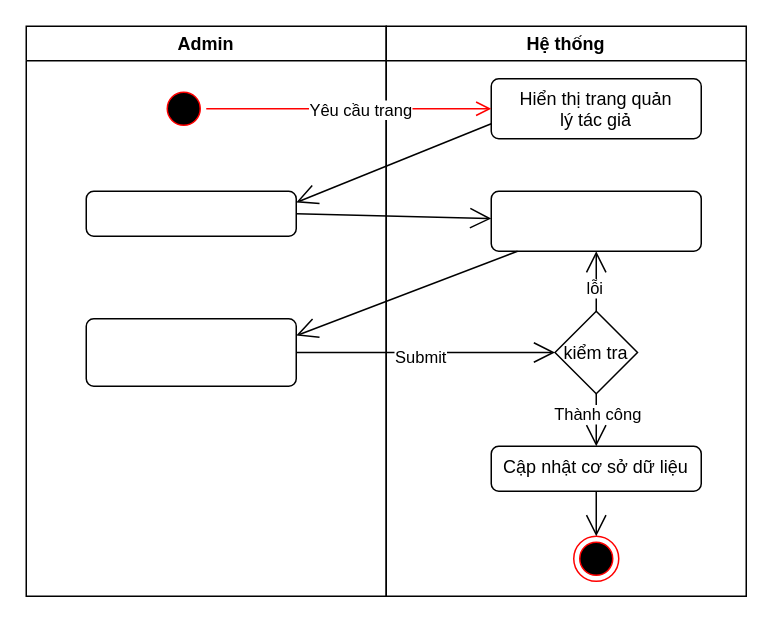
The diagram is 773 pixels wide and 623 high, and some of its shapes have lost their labels. Each missing label, with the centre of its shape:
"Chọn sửa tác giả" goes at (190,213).
"Hiển thị form theo yêu cầu" goes at (595,220).
"Sửa thông tin cần sửa" goes at (190,351).
